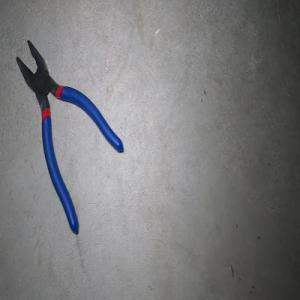Pliers: (15, 39, 123, 234)
